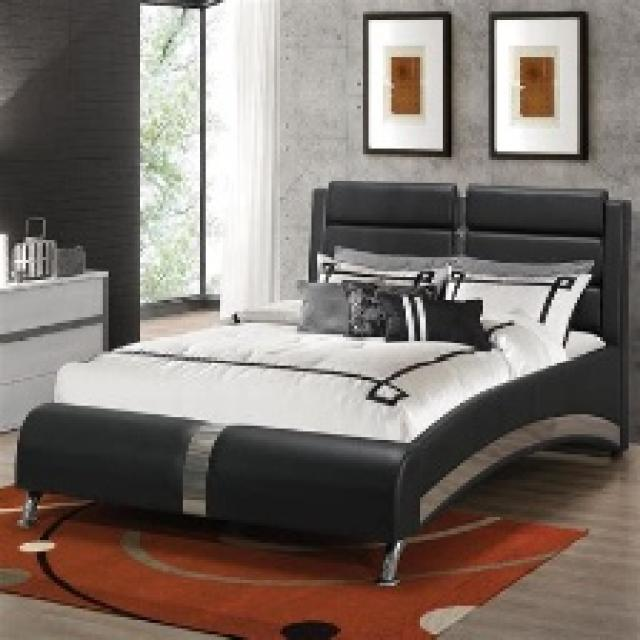Bed: (14, 177, 632, 586)
